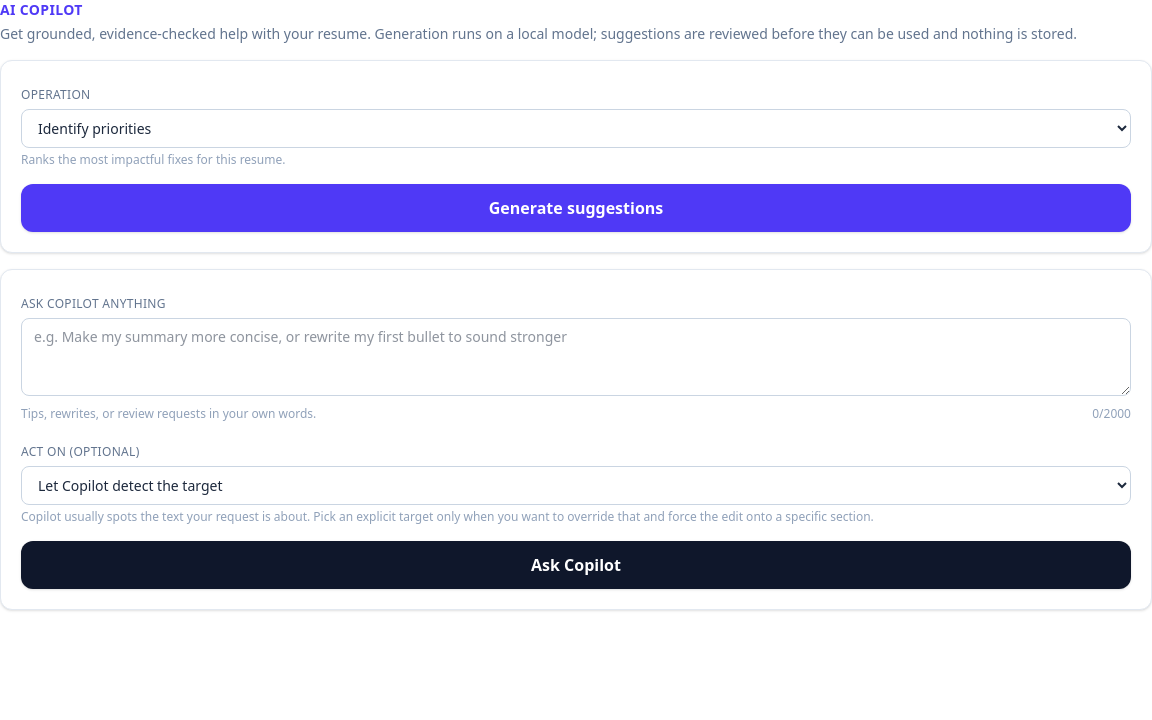
Scenario: CopilotPanel free-text requests › renders an editable proposal for a rewrite without an explicit target
Type "Rewrite my summary to be crisper" into the text box named "Free-text request for Copilot" at (576, 357), box [21,318,1131,396]
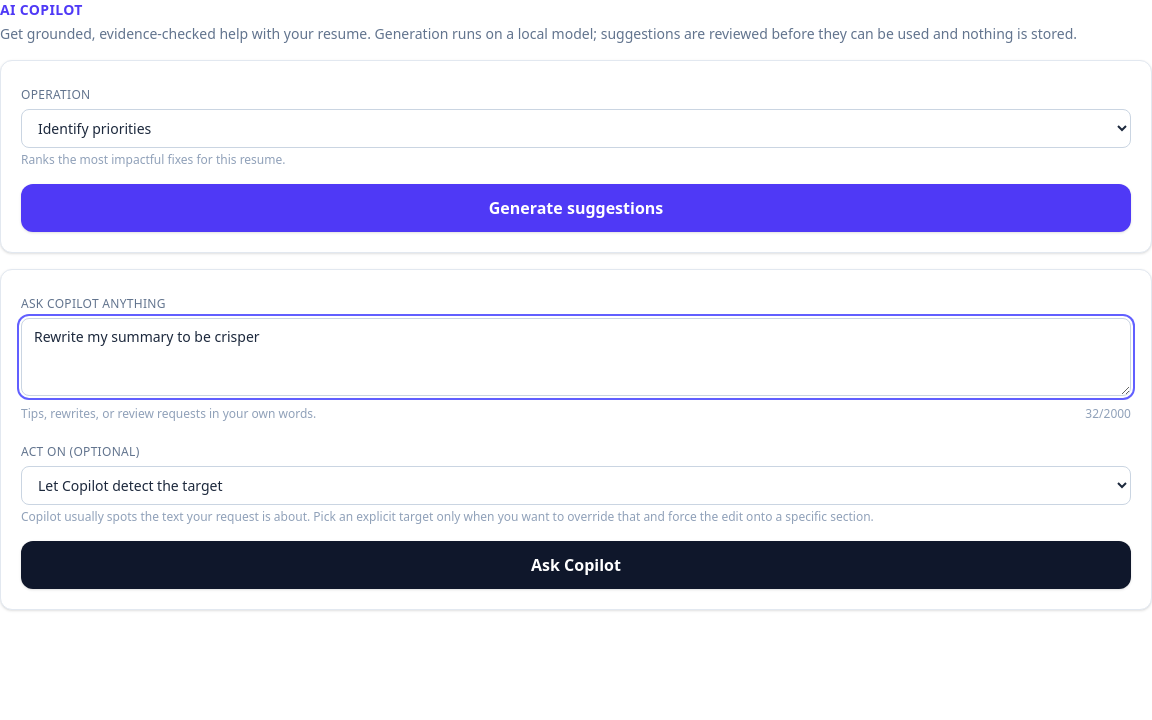
Click the button "Ask Copilot" at (576, 565), box [21,541,1131,589]
(page scrolled)
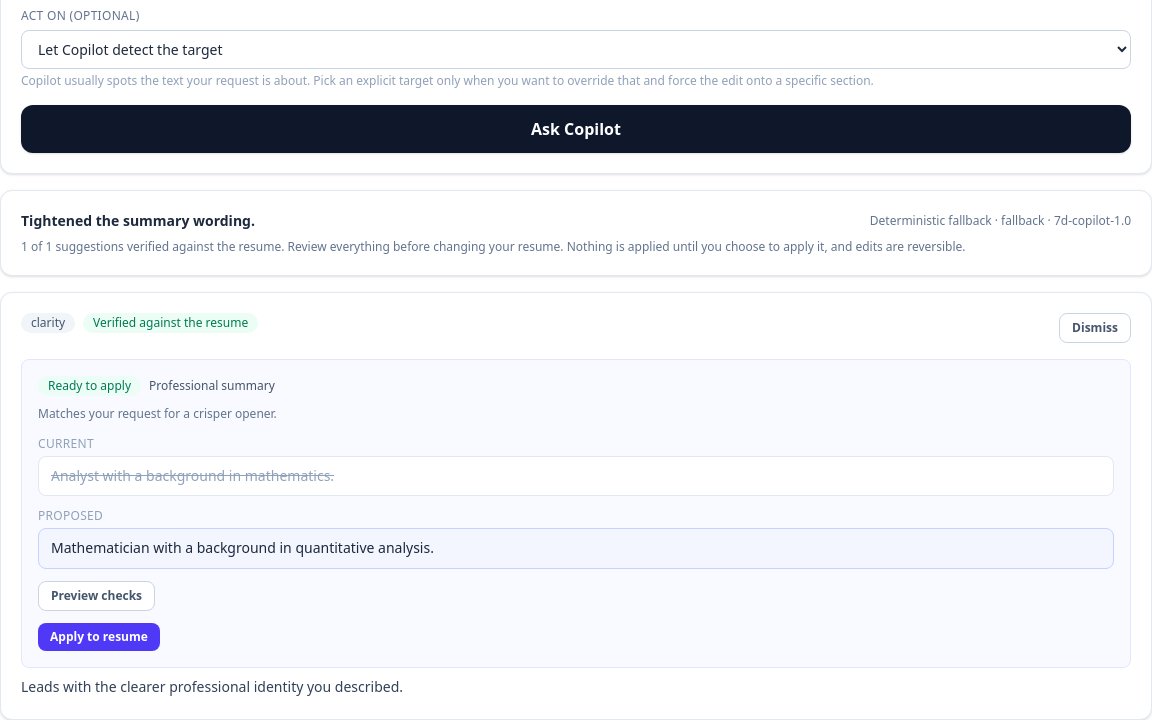
Expected: the button "Apply to resume" is shown, [38,623,160,651]
Expected: the text "Mathematician with a background in quantitative analysis." is shown, [38,528,1114,569]
